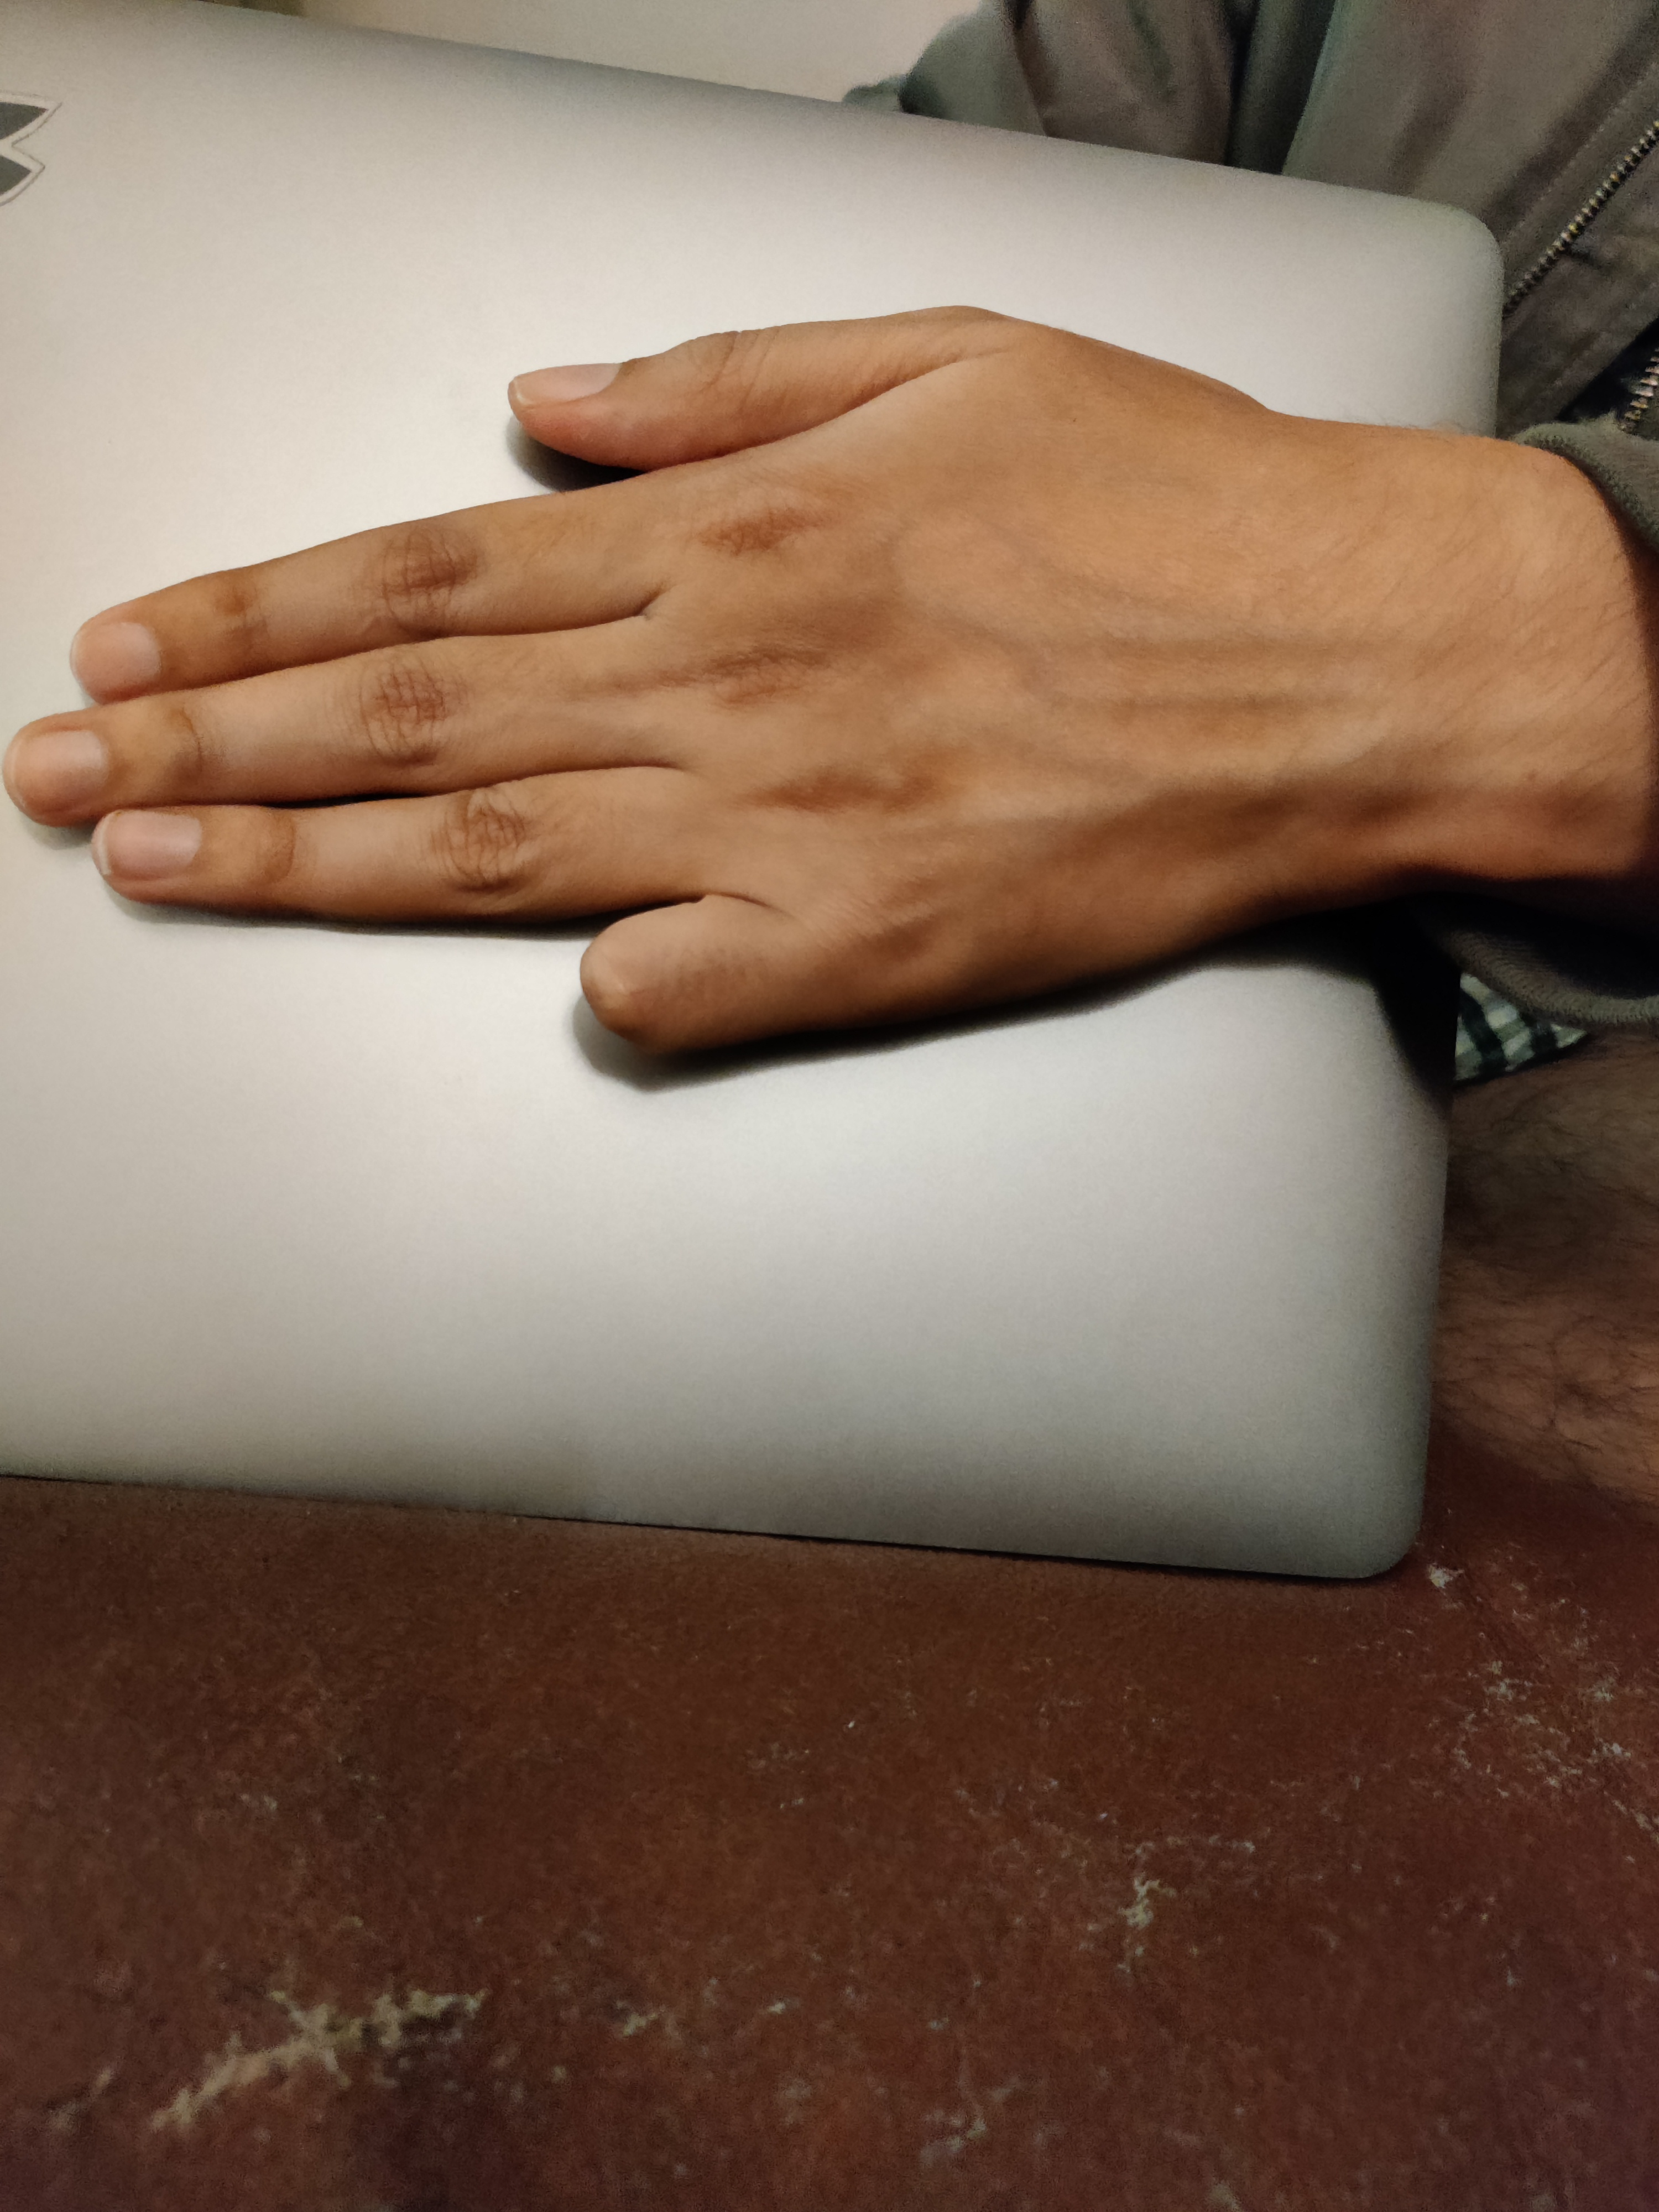right: (12, 240, 1567, 1325)
